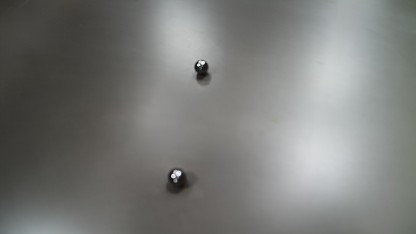ironball: (168, 168, 186, 187), (194, 59, 208, 74)
